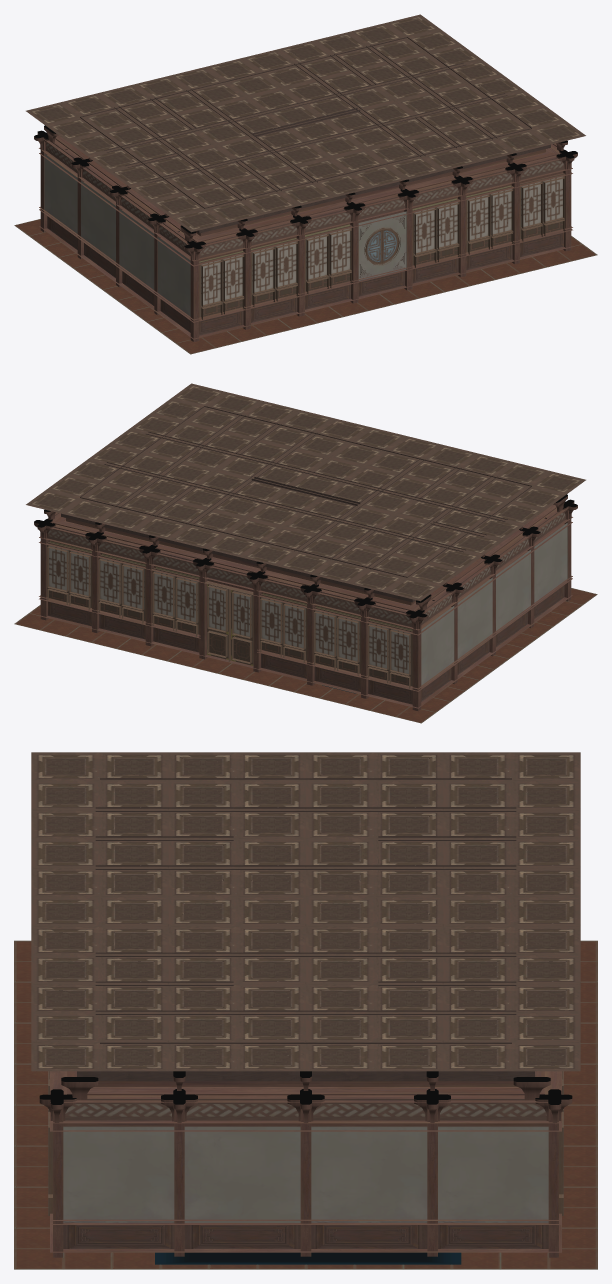
The model's file is IndoorScene_Ly_Xyx2022.fbx.
3 views of the same model, one above another, from view 1: azimuth 30°, elevation 25°; view 2: azimuth 150°, elevation 25°; view 3: azimuth 270°, elevation 25° (orthographic). The views are drawn at different scales.
Visible parts, largest first — view 1: Indoor_Ly_Build_Xinyuexuan_01_Vo, Indoor_Ly_Prop_Pillar_01_Vo (14), Indoor_Ly_Prop_Pillar_01_Vo (12), Indoor_Ly_Prop_Pillar_01_Vo (11), Indoor_Ly_Prop_Pillar_01_Vo (10), Indoor_Ly_Prop_Pillar_01_Vo (8), Indoor_Ly_Prop_Pillar_01_Vo (15), Indoor_Ly_Prop_Pillar_01_Vo (9), Indoor_Ly_Prop_Pillar_01_Vo (13), Indoor_Ly_Prop_Pillar_01_Vo (7), Indoor_Ly_Prop_Pillar_01_Vo (18), Indoor_Ly_Prop_Pillar_01_Vo (19) (+1 smaller); view 2: Indoor_Ly_Build_Xinyuexuan_01_Vo, Indoor_Ly_Prop_Pillar_01_Vo (7), Indoor_Ly_Prop_Pillar_01_Vo (2), Indoor_Ly_Prop_Pillar_01_Vo (1), Indoor_Ly_Prop_Pillar_01_Vo, Indoor_Ly_Prop_Pillar_01_Vo (5), Indoor_Ly_Prop_Pillar_01_Vo (4), Indoor_Ly_Prop_Pillar_01_Vo (3), Indoor_Ly_Prop_Pillar_01_Vo (6), Indoor_Ly_Prop_Pillar_01_Vo (14), Indoor_Ly_Prop_Pillar_01_Vo (19), Indoor_Ly_Prop_Pillar_01_Vo (18) (+1 smaller); view 3: Indoor_Ly_Build_Xinyuexuan_01_Vo, Indoor_MDBuild_Ao04 (3), Indoor_Ly_Prop_Pillar_01_Vo (4), Indoor_Ly_Prop_Pillar_01_Vo (15), Indoor_Ly_Prop_Pillar_01_Vo (21), Indoor_Ly_Prop_Pillar_01_Vo (16), Indoor_Ly_Prop_Pillar_01_Vo (17).
Boxes of the visible parts, <box> form: Indoor_Ly_Build_Xinyuexuan_01_Vo: <box>14,14,597,354</box>; Indoor_Ly_Prop_Pillar_01_Vo (14): <box>180,225,206,341</box>; Indoor_Ly_Prop_Pillar_01_Vo (12): <box>451,166,473,277</box>; Indoor_Ly_Prop_Pillar_01_Vo (11): <box>343,192,365,303</box>; Indoor_Ly_Prop_Pillar_01_Vo (10): <box>290,205,311,316</box>; Indoor_Ly_Prop_Pillar_01_Vo (8): <box>397,179,419,290</box>; Indoor_Ly_Prop_Pillar_01_Vo (15): <box>556,140,577,251</box>; Indoor_Ly_Prop_Pillar_01_Vo (9): <box>505,153,526,264</box>; Indoor_Ly_Prop_Pillar_01_Vo (13): <box>236,219,257,329</box>; Indoor_Ly_Prop_Pillar_01_Vo (7): <box>34,125,58,232</box>; Indoor_Ly_Prop_Pillar_01_Vo (18): <box>71,157,92,259</box>; Indoor_Ly_Prop_Pillar_01_Vo (19): <box>147,213,169,315</box>; Indoor_Ly_Build_Xinyuexuan_01_Vo: <box>14,383,597,723</box>; Indoor_Ly_Prop_Pillar_01_Vo (7): <box>405,594,431,710</box>; Indoor_Ly_Prop_Pillar_01_Vo (2): <box>138,535,160,646</box>; Indoor_Ly_Prop_Pillar_01_Vo (1): <box>192,548,214,659</box>; Indoor_Ly_Prop_Pillar_01_Vo: <box>246,561,268,672</box>; Indoor_Ly_Prop_Pillar_01_Vo (5): <box>300,574,321,685</box>; Indoor_Ly_Prop_Pillar_01_Vo (4): <box>34,509,55,620</box>; Indoor_Ly_Prop_Pillar_01_Vo (3): <box>85,522,106,633</box>; Indoor_Ly_Prop_Pillar_01_Vo (6): <box>354,588,375,698</box>; Indoor_Ly_Prop_Pillar_01_Vo (14): <box>553,494,577,601</box>; Indoor_Ly_Prop_Pillar_01_Vo (19): <box>519,526,540,628</box>; Indoor_Ly_Prop_Pillar_01_Vo (18): <box>442,582,464,684</box>; Indoor_Ly_Build_Xinyuexuan_01_Vo: <box>14,752,597,1269</box>; Indoor_MDBuild_Ao04 (3): <box>155,1252,461,1264</box>; Indoor_Ly_Prop_Pillar_01_Vo (4): <box>513,1077,572,1257</box>; Indoor_Ly_Prop_Pillar_01_Vo (15): <box>39,1077,98,1257</box>; Indoor_Ly_Prop_Pillar_01_Vo (21): <box>287,1071,324,1256</box>; Indoor_Ly_Prop_Pillar_01_Vo (16): <box>414,1071,450,1256</box>; Indoor_Ly_Prop_Pillar_01_Vo (17): <box>161,1071,197,1256</box>.
Size of what is drawn, in the model's own units: 18.22 by 5.15 by 13.67.
